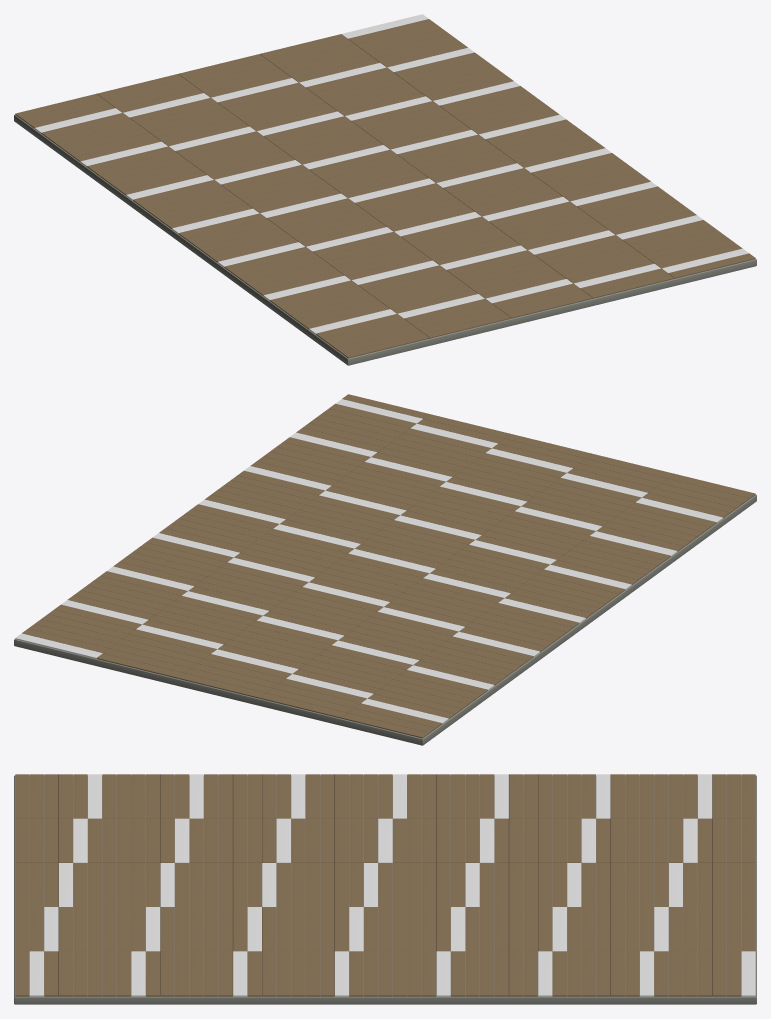
Rendered from Furniture_Floor62.fbx.
3 views of the same model, one above another, from view 1: azimuth 30°, elevation 25°; view 2: azimuth 150°, elevation 25°; view 3: azimuth 270°, elevation 25° (orthographic). The views are drawn at different scales.
Parts seen in each view (by area): view 1: Furniture_Floor62; view 2: Furniture_Floor62; view 3: Furniture_Floor62.
Part boxes in pixels (box(x1,y1,x2,y2)): Furniture_Floor62: box(14, 14, 756, 365); Furniture_Floor62: box(14, 394, 756, 745); Furniture_Floor62: box(14, 774, 756, 1004).
Size of the model in its own units: 966 by 18.45 by 1366.
